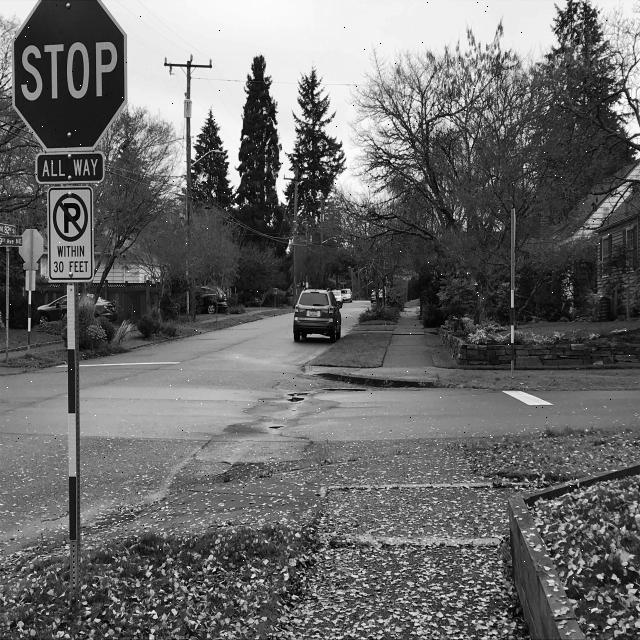Stop-sign: (0, 0, 145, 140)
